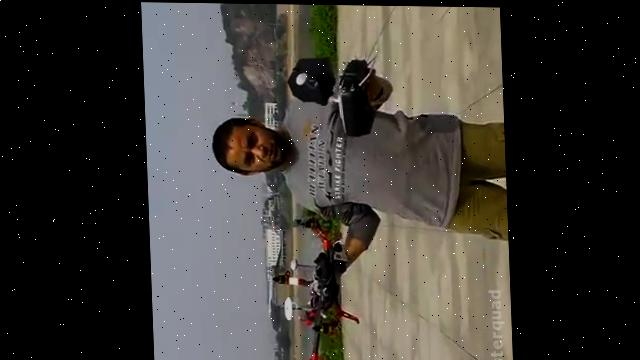drone: (264, 212, 359, 360)
